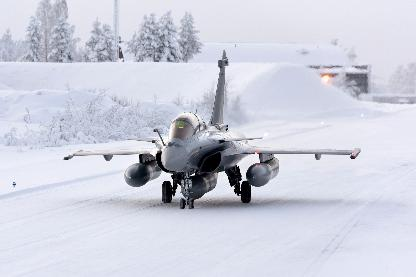RQ4: (63, 49, 360, 208)
